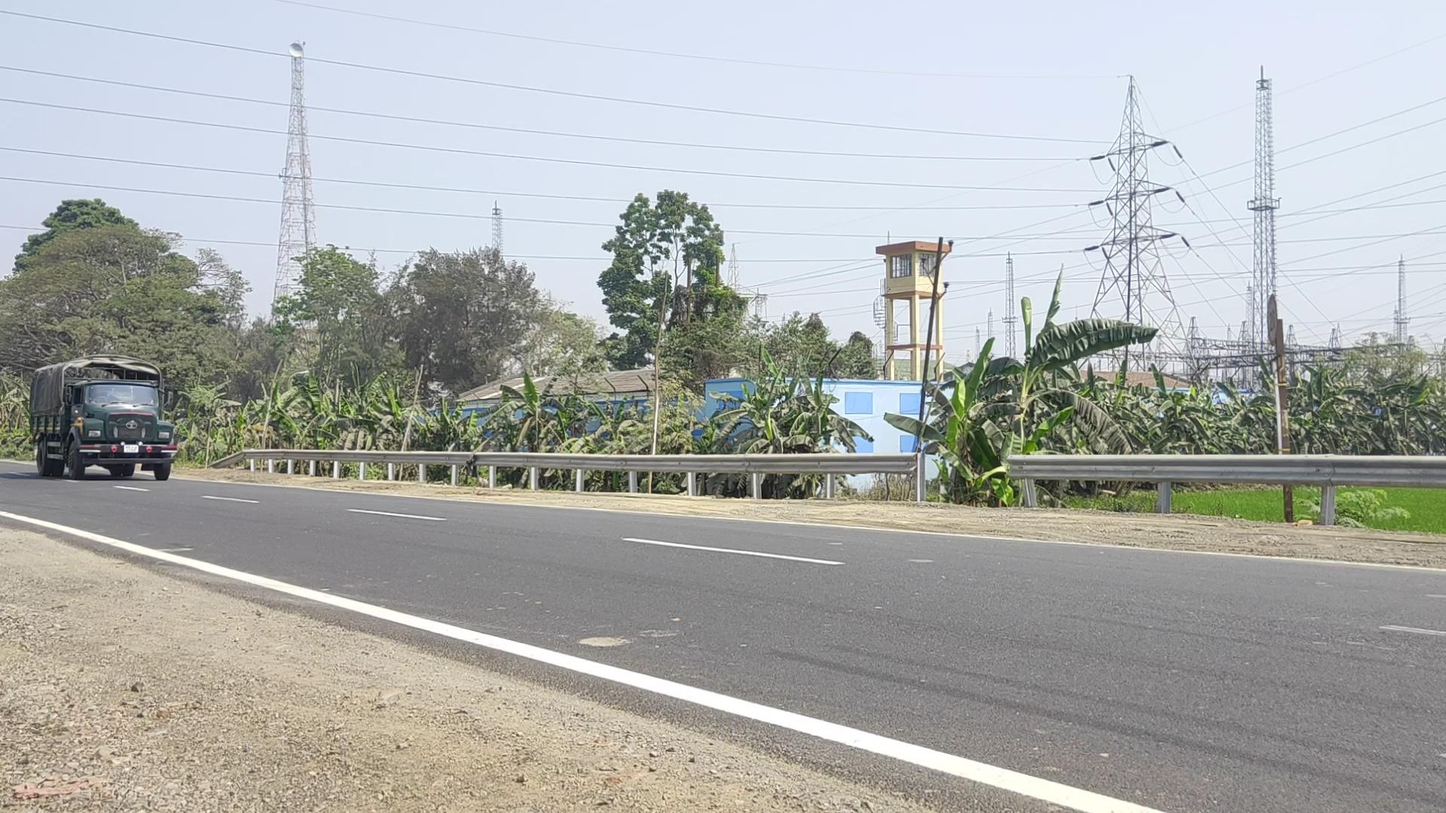truck: (29, 354, 178, 481)
